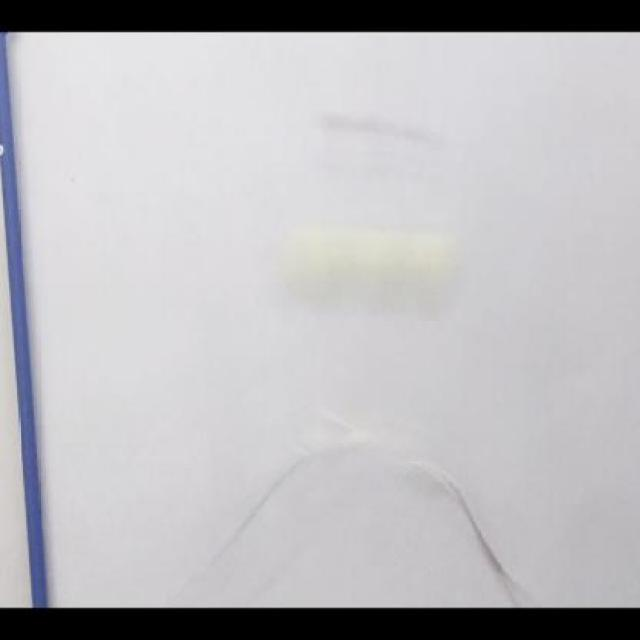baseball: (266, 226, 466, 320)
